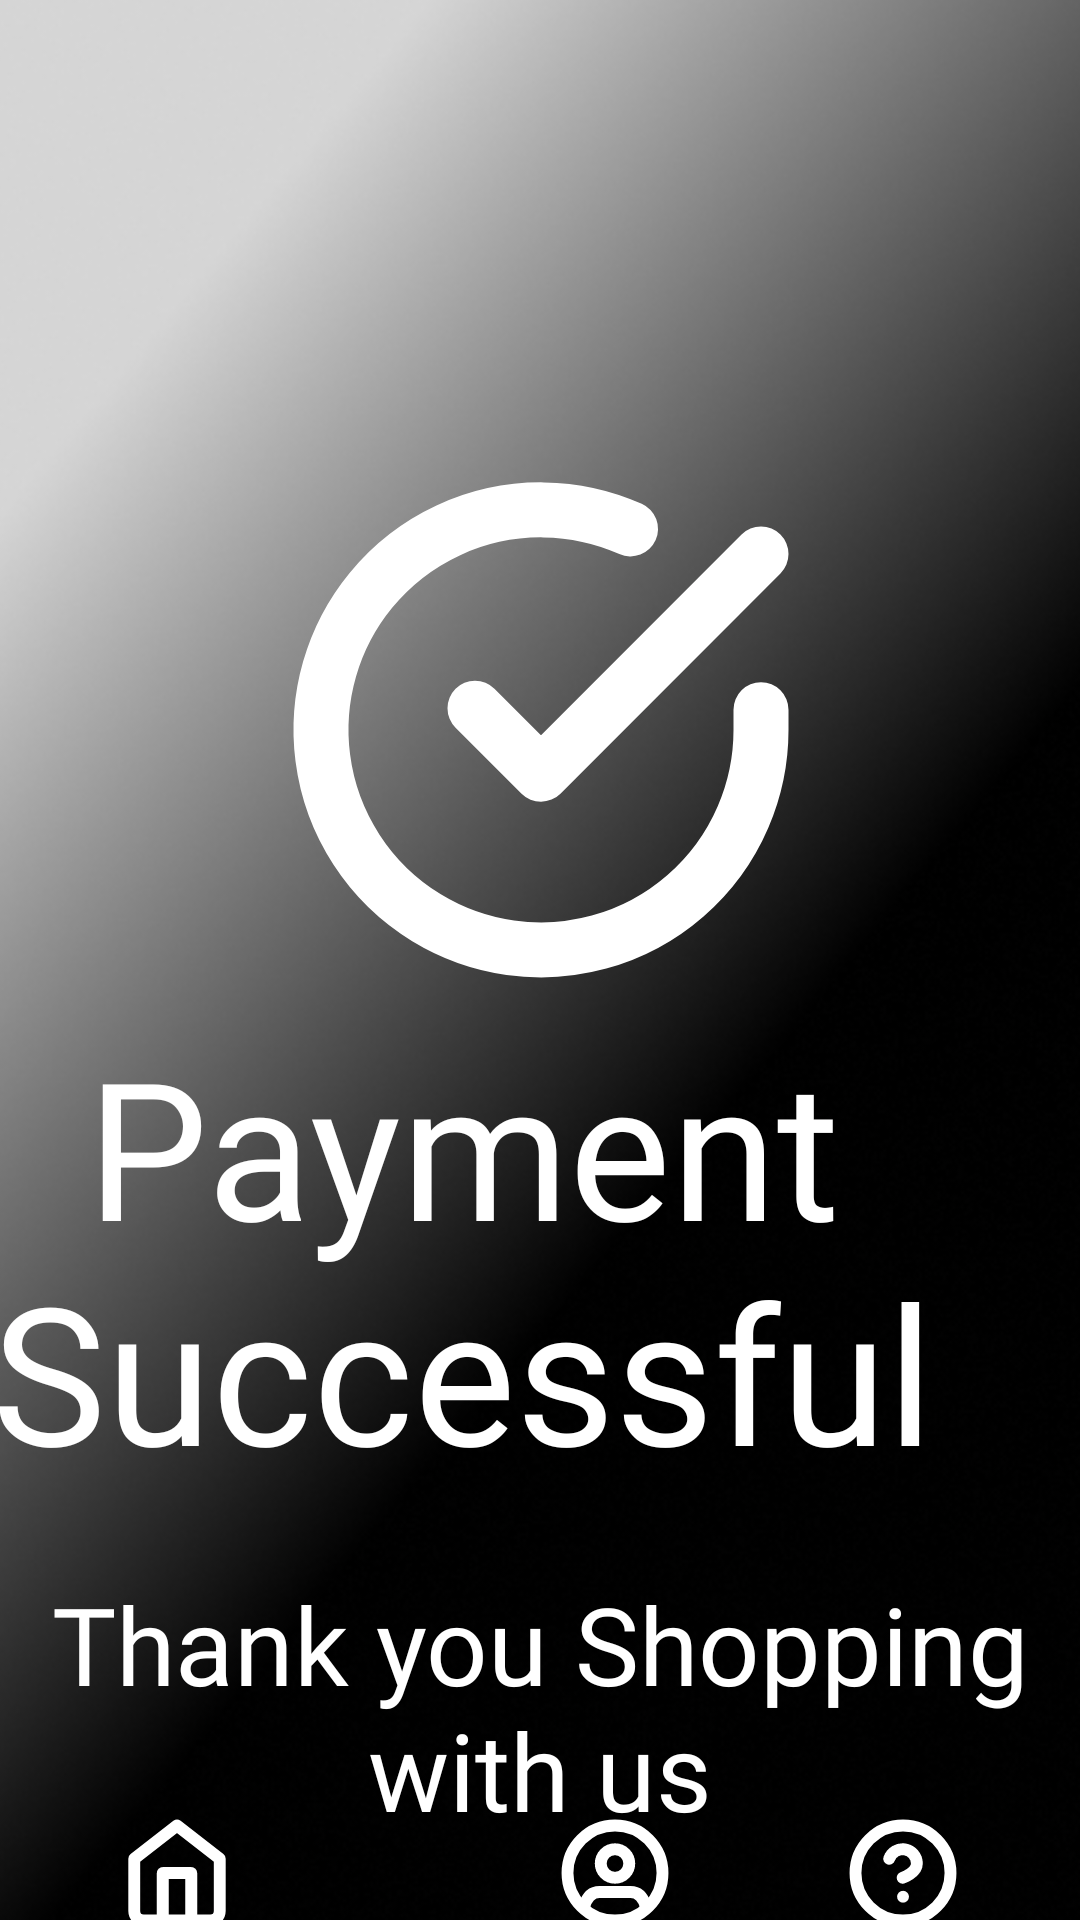

Point at icon controls on the screen. Image size 1080*1920, points as [x,y].
help circle: [903,1869]
home: [177,1869]
user circle: [615,1869]
